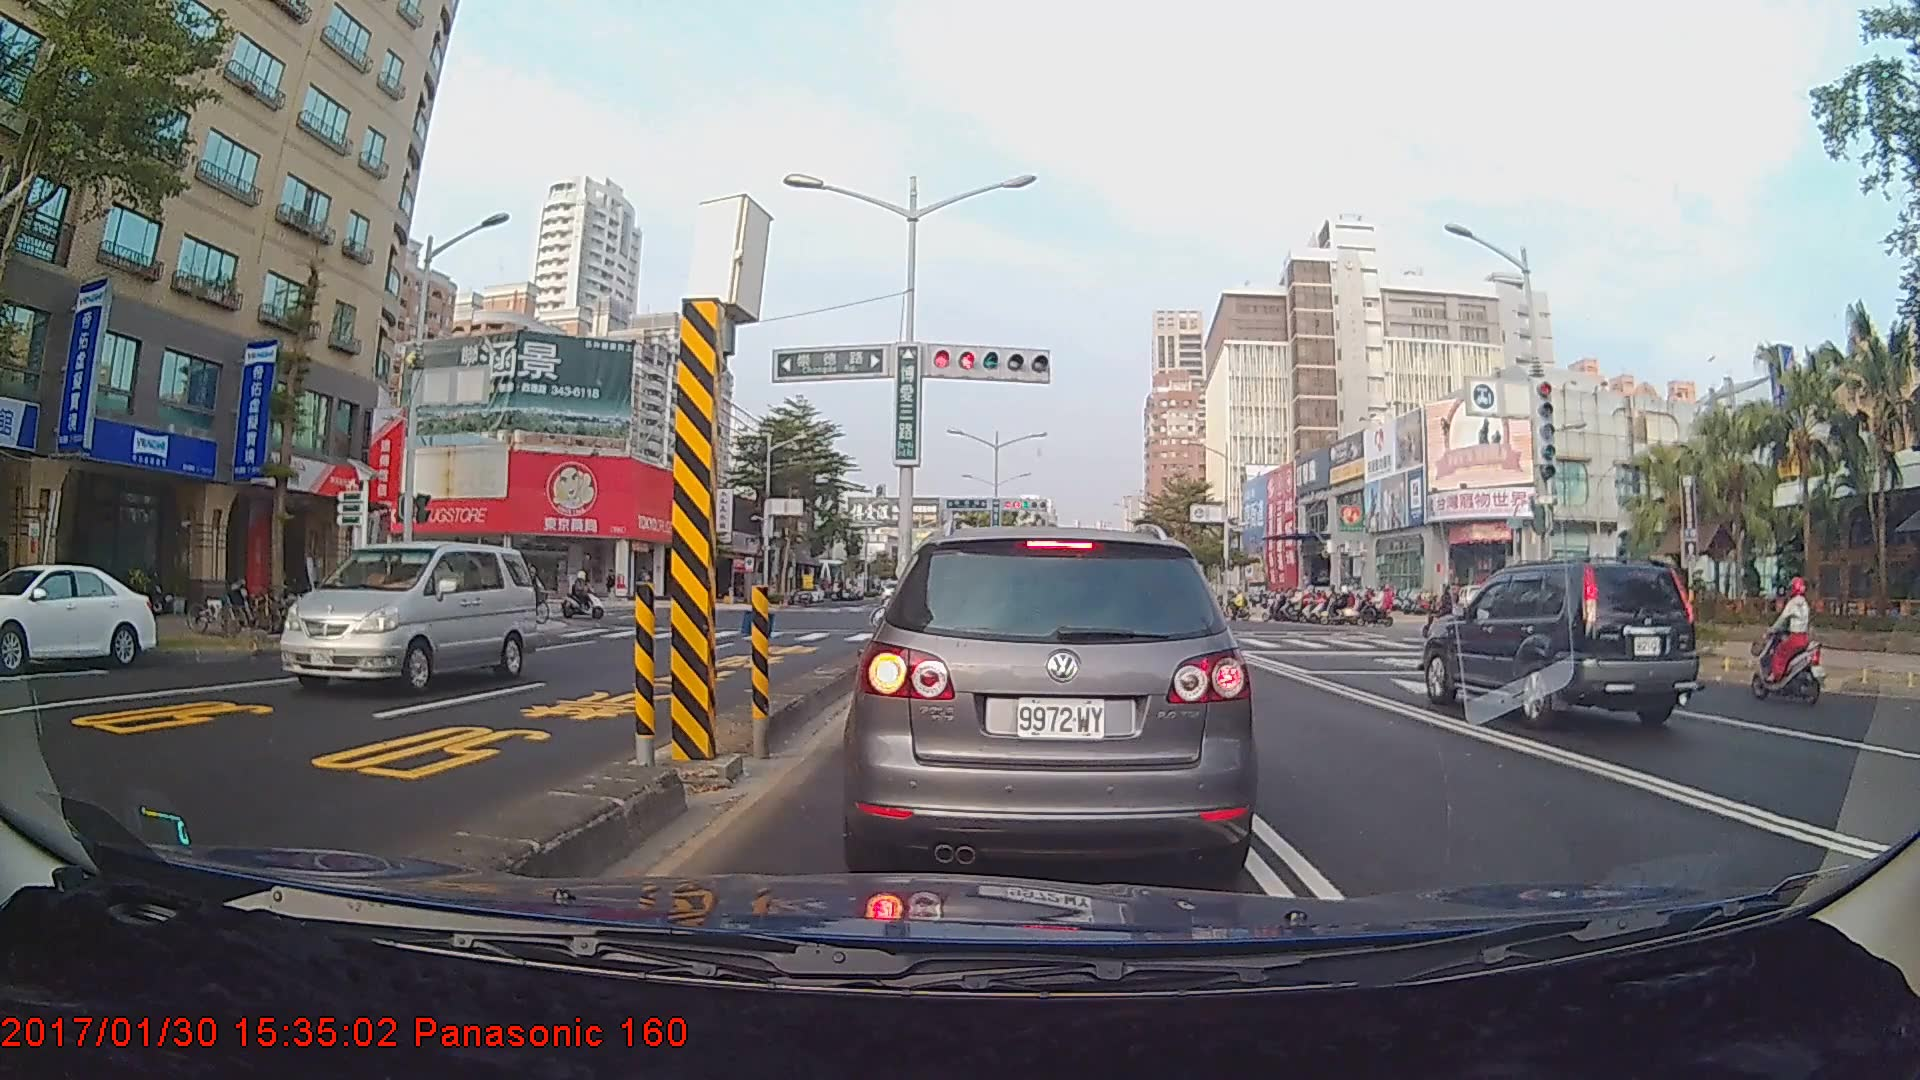rider: (1756, 566, 1831, 708), (562, 566, 609, 619)
vehicle: (849, 520, 1252, 881), (1414, 553, 1703, 737), (266, 537, 529, 698), (0, 562, 155, 674)
